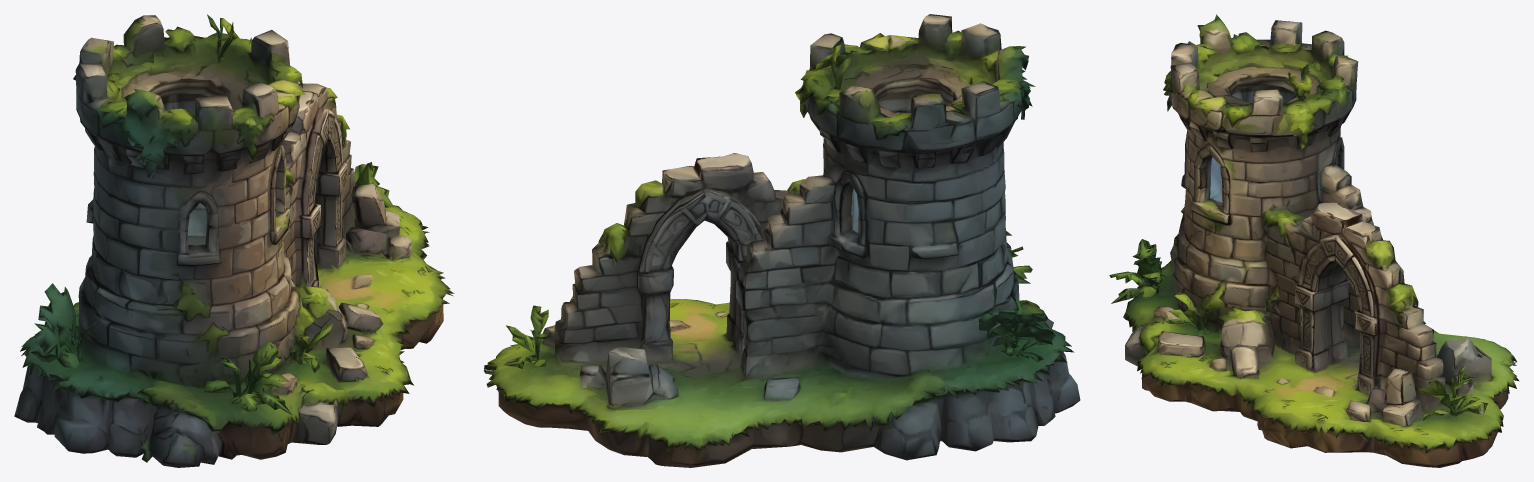
File: ruined stone tower 3d model.glb
3 renders of one model, left to right at view 1: azimuth 30°, elevation 25°; view 2: azimuth 150°, elevation 25°; view 3: azimuth 270°, elevation 25°, orthographic. The views are drawn at different scales.
Parts seen in each view (by area): view 1: tripo_node_b8f564dc-8e7e-4473-8234-6344c76772ad; view 2: tripo_node_b8f564dc-8e7e-4473-8234-6344c76772ad; view 3: tripo_node_b8f564dc-8e7e-4473-8234-6344c76772ad.
Boxes of the visible parts, x1,y1,x2,y2 form: tripo_node_b8f564dc-8e7e-4473-8234-6344c76772ad: (14,14,454,467); tripo_node_b8f564dc-8e7e-4473-8234-6344c76772ad: (483,14,1080,467); tripo_node_b8f564dc-8e7e-4473-8234-6344c76772ad: (1109,14,1519,467).
Size of the model in its own units: 1 by 0.7126 by 0.8919.
1 material, 1 textured.
